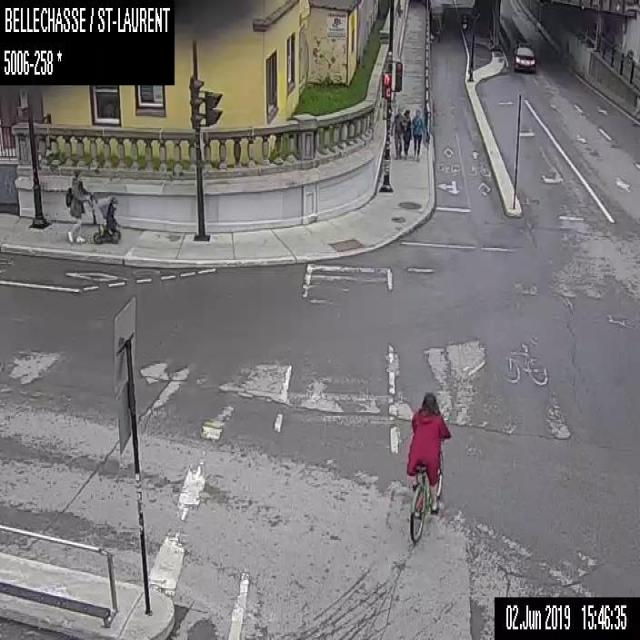cyclist: (404, 392, 451, 541)
pedestrian: (65, 168, 119, 243), (390, 107, 403, 158), (411, 108, 422, 158), (402, 108, 411, 158)
vehicle: (514, 42, 534, 71)
